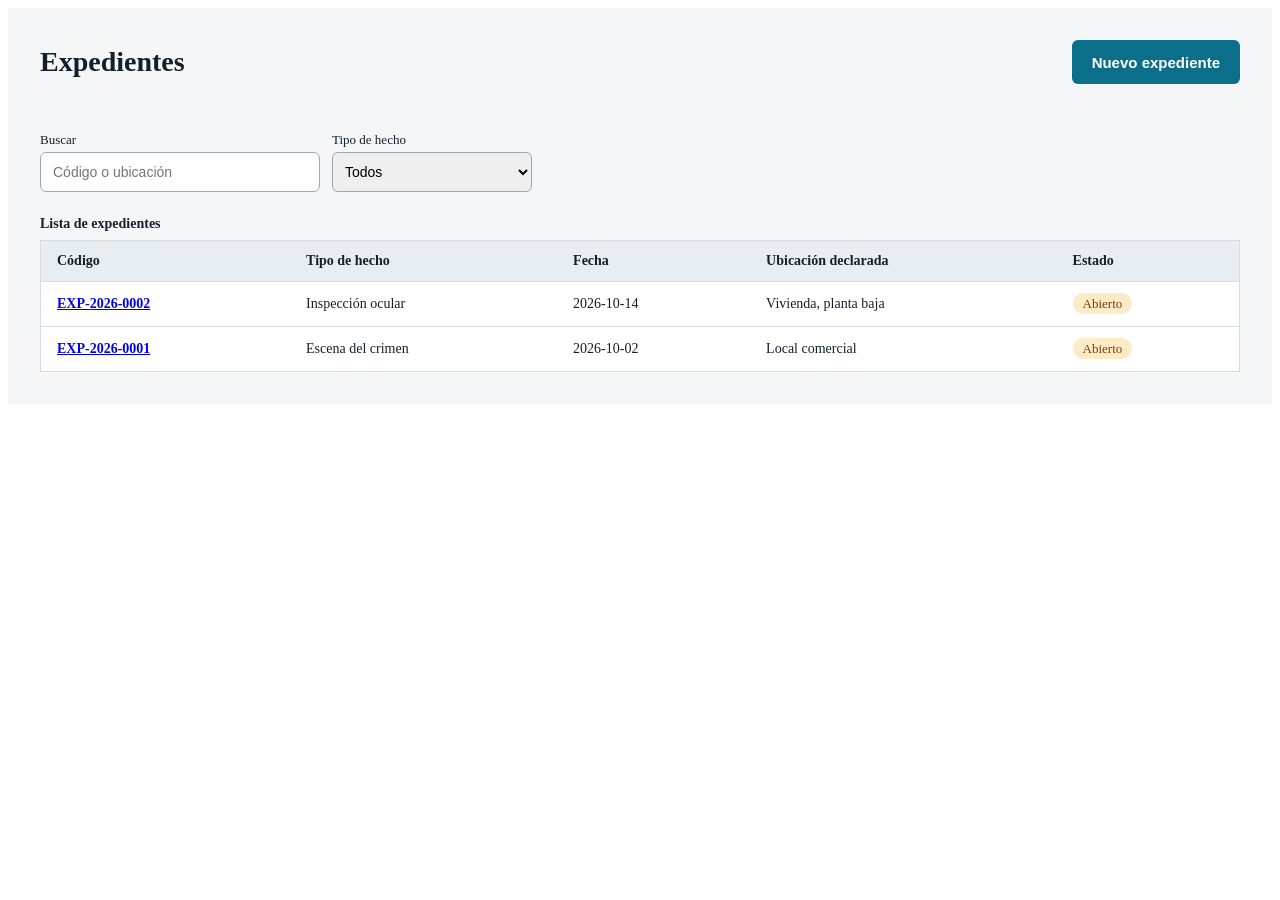
Scenario: CaseListPage › shows a generic alert when creation fails for another reason
This screenshot has width=1280, height=900.
Expected: the table is shown, [40,216,1240,372]
Step 1. Click the button "Nuevo expediente" → (1156, 62), box [1072,40,1240,84]
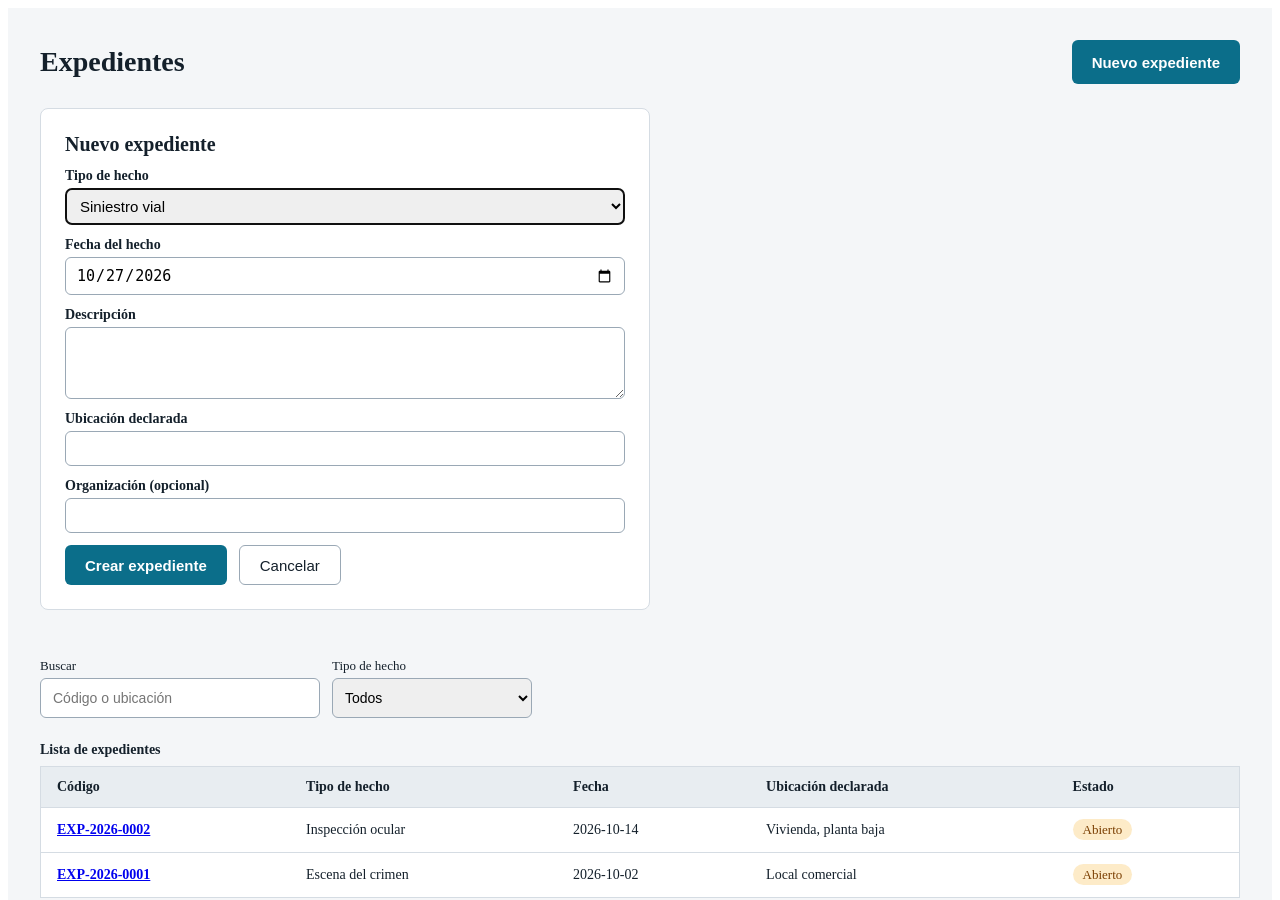
Step 2. Type "Hecho" into the text box labelled "Descripción" → (345, 363), box [65,327,625,399]
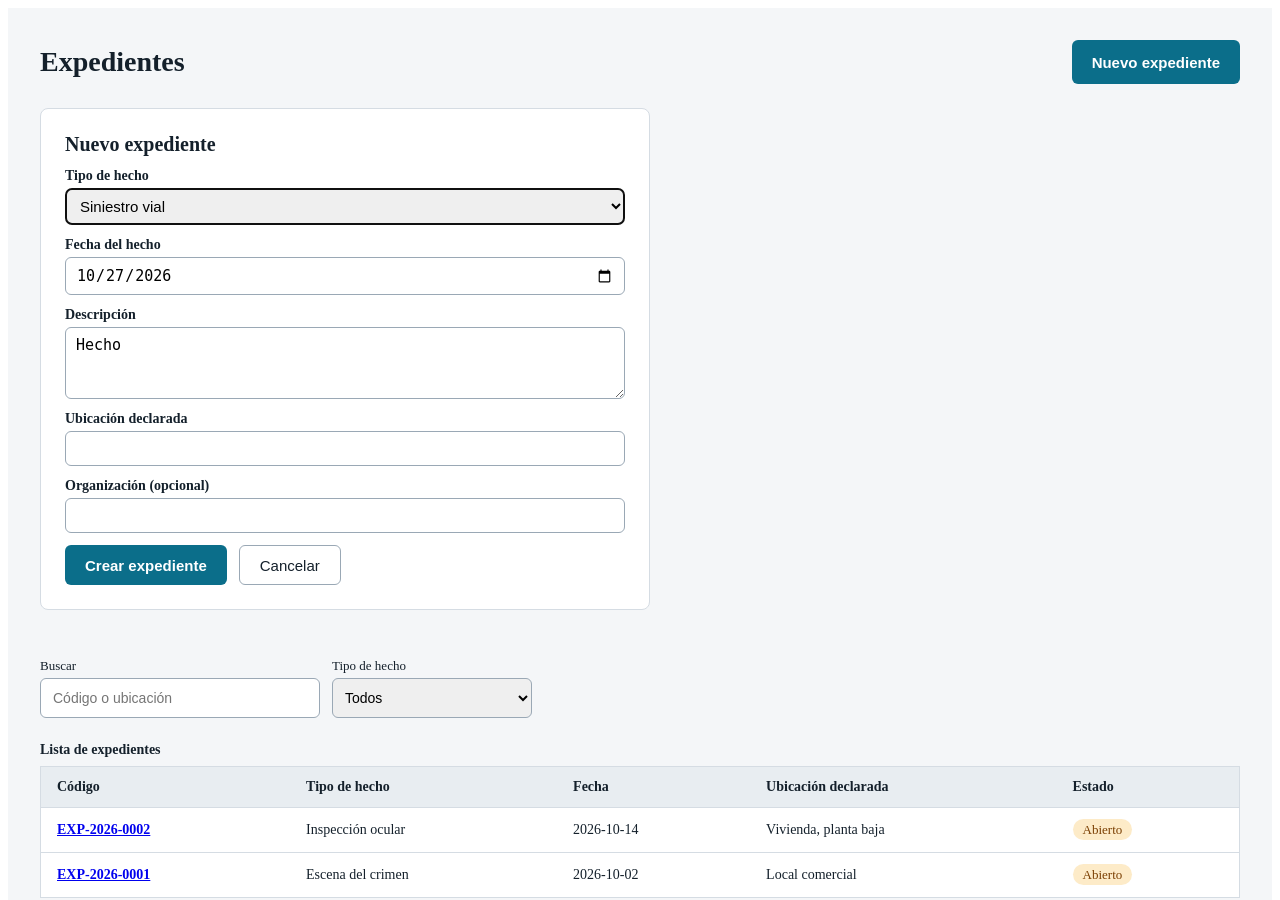
Step 3. Type "Calle 1" into the field labelled "Ubicación declarada" → (345, 448), box [65,431,625,466]
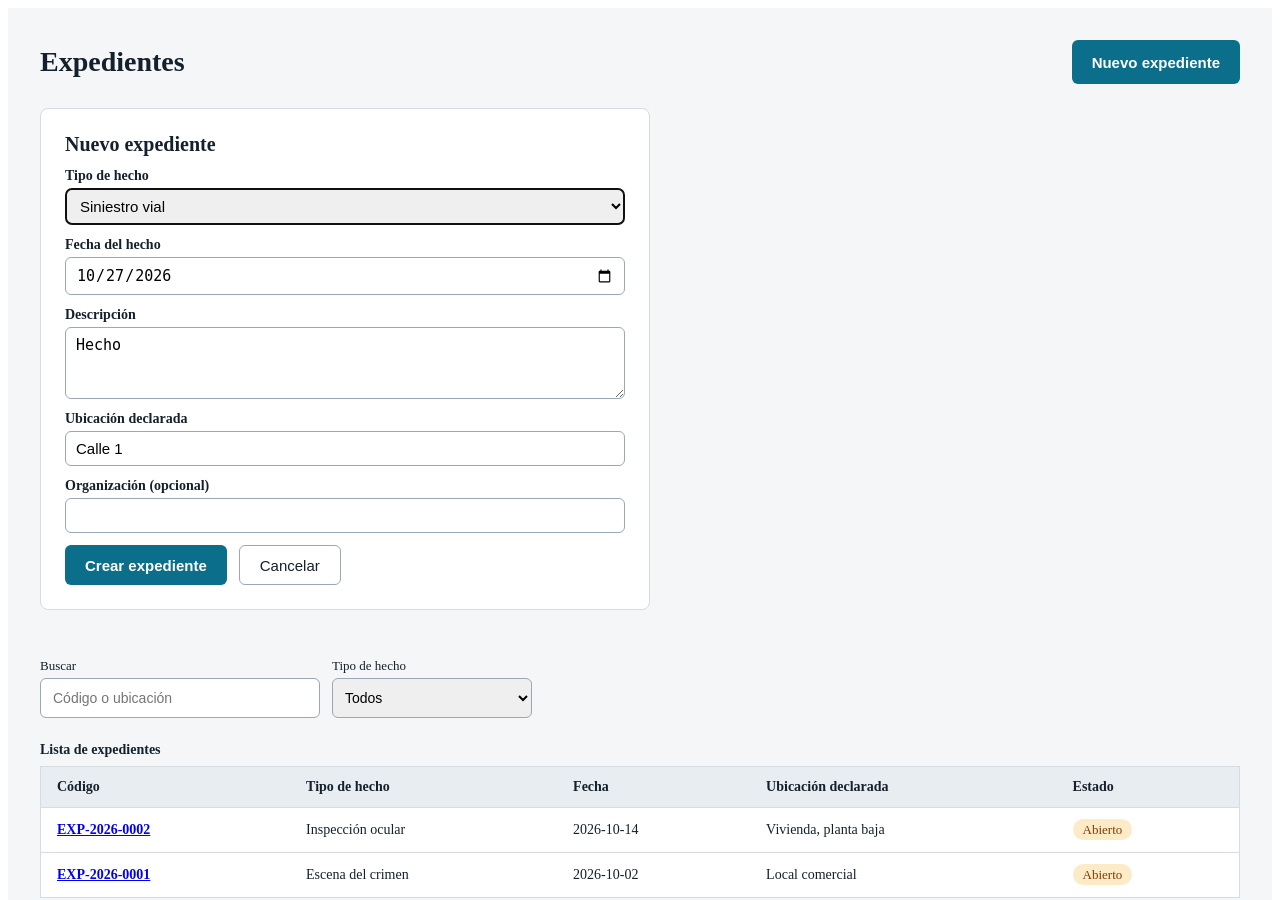
Step 4. Click the button "Crear expediente" → (146, 565), box [65,545,227,585]
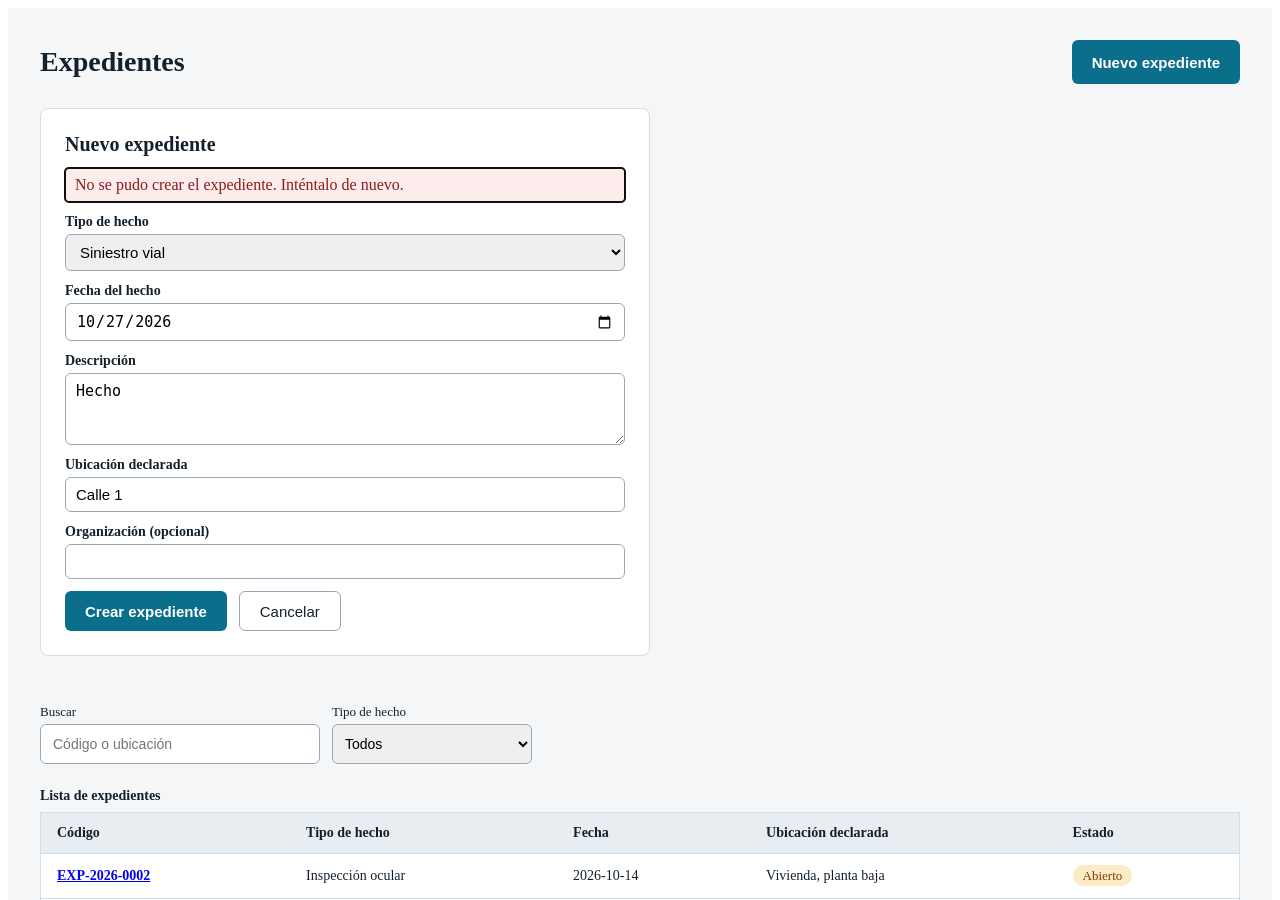
Expected: the message reads "No se pudo crear el expediente. Inténtalo de nuevo.", [75,176,404,193]
